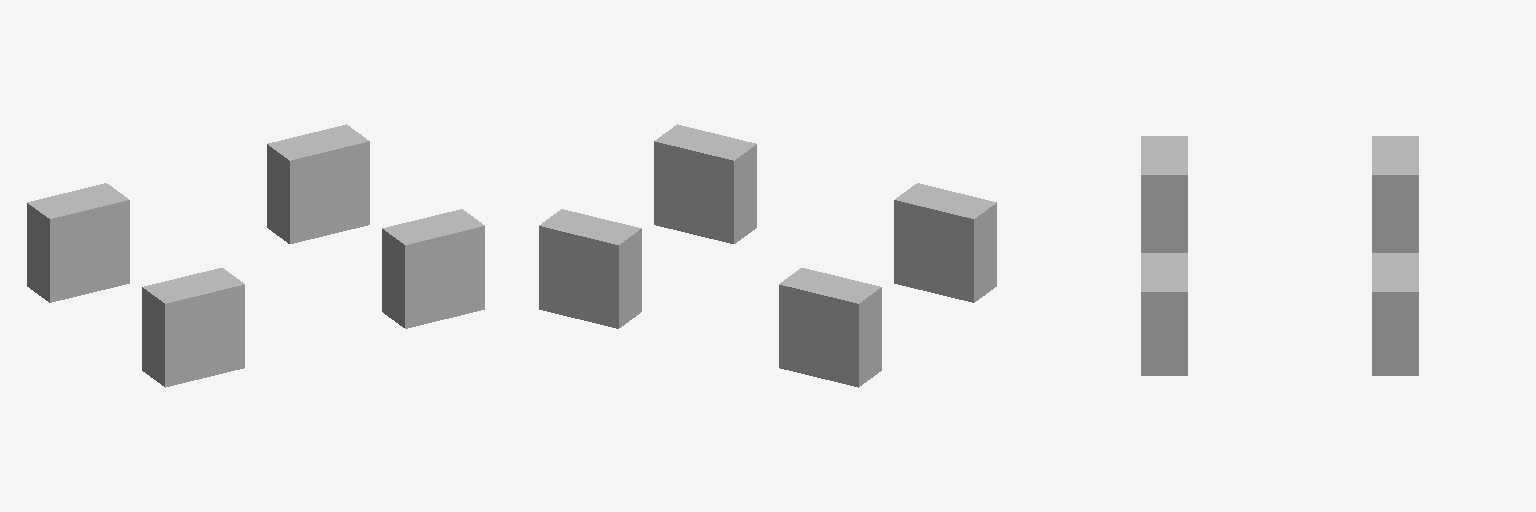
File: racer-v6-wheels.obj
3 views of the same model, side by side, from view 1: azimuth 30°, elevation 25°; view 2: azimuth 150°, elevation 25°; view 3: azimuth 270°, elevation 25° (orthographic).
Visible parts, largest first — view 1: object 1; view 2: object 1; view 3: object 1.
Part boxes in pixels (bbox=[...]): object 1: bbox=[27, 124, 484, 387]; object 1: bbox=[539, 124, 996, 387]; object 1: bbox=[1141, 136, 1418, 375].
Size of the model in its own units: 0.8 by 0.2 by 0.6.